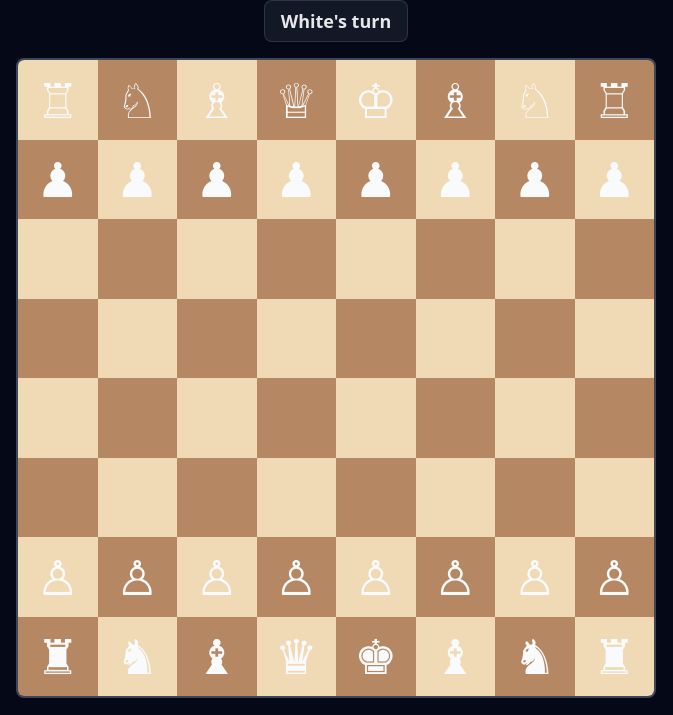
Test: ChessBoard - Responsive Layout and Mobile Gestures › Mobile capture tap handling › should execute capture move when tapping opponent piece after selecting own piece
The width and height of the screenshot is (673, 715).
Click the cell named "square e2". click: coordinates (376, 577)
box: [336,537,416,616]
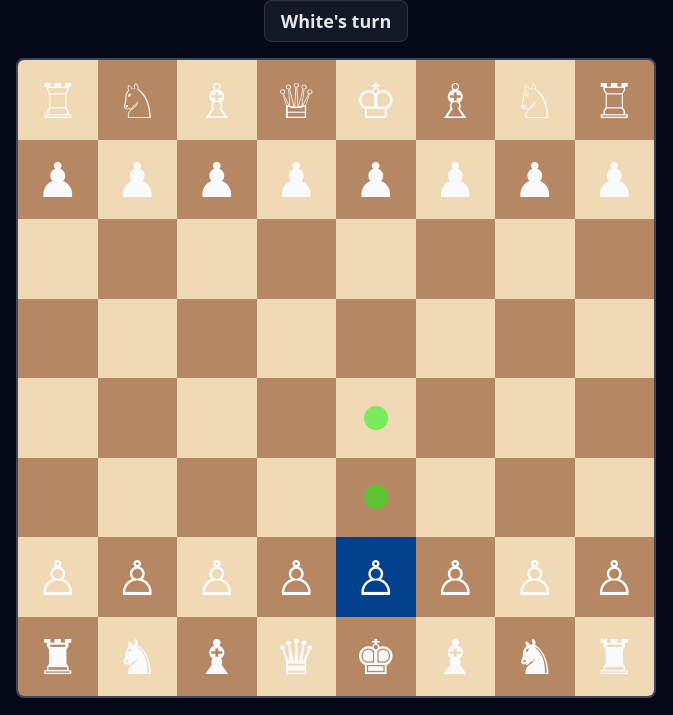
Click the cell named "square e4". click: coordinates (376, 418)
box: [336,378,416,458]
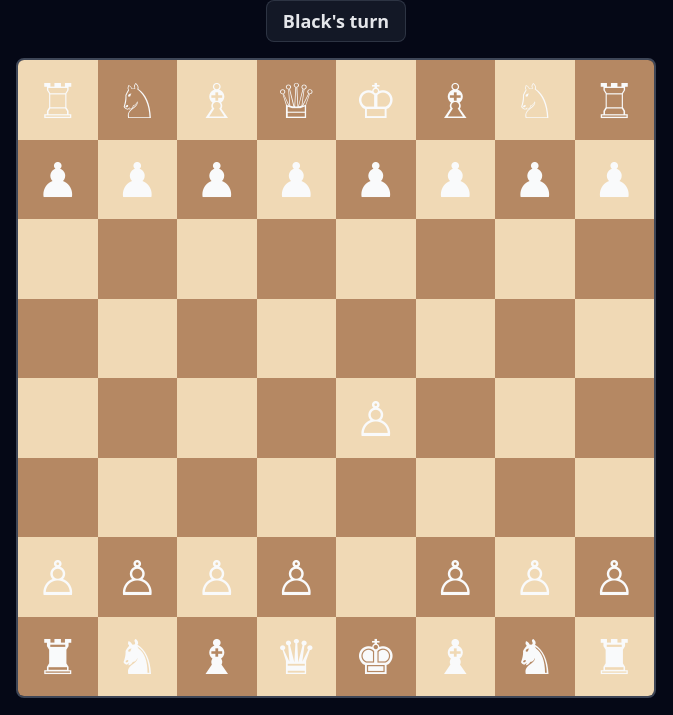
Result: the cell named "square e4" reads "♙" at [354,385,397,450]
Click the cell named "square d7". click: coordinates (296, 179)
box: [256,140,336,219]
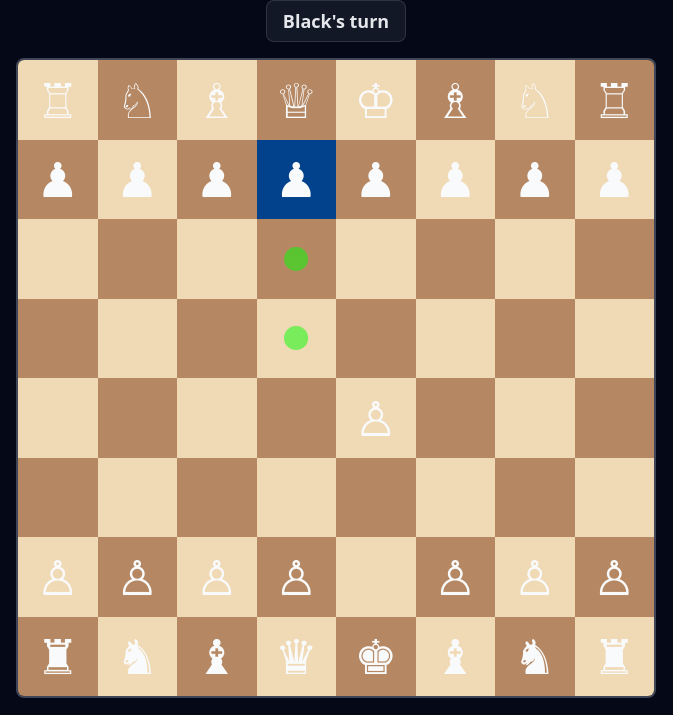
Click the cell named "square d5". click: coordinates (296, 338)
box: [256,298,336,378]
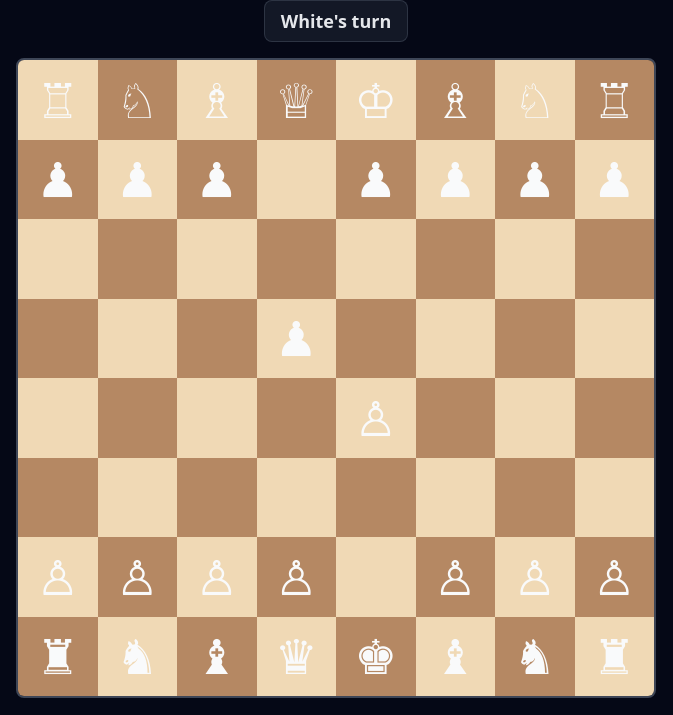
Result: the cell named "square d5" reads "♟" at [275,305,318,370]
Press the mouse on the cell named "square e4" at coordinates (376, 418), box [336,378,416,458]
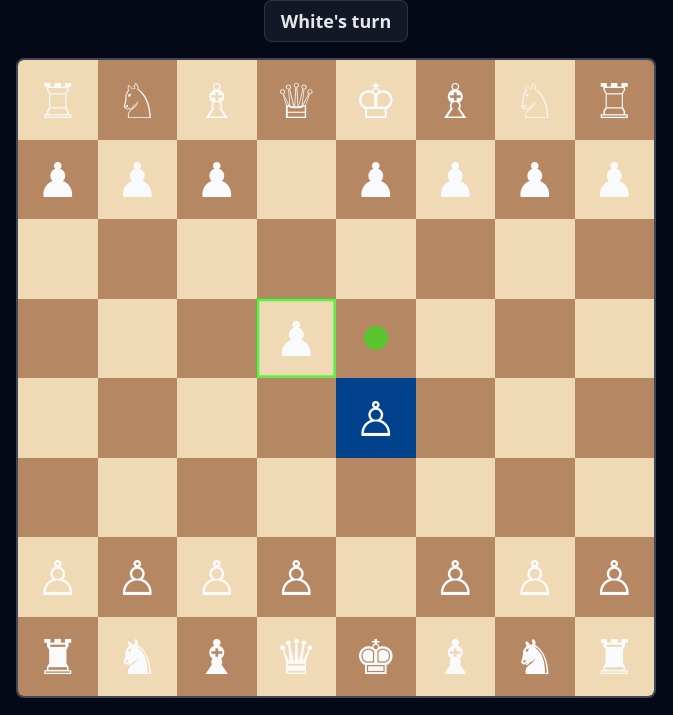
Result: the cell named "square e4" has class "selected" at [336,378,416,458]
Press the mouse on the cell named "square d5" at coordinates (296, 338), box [256,298,336,378]
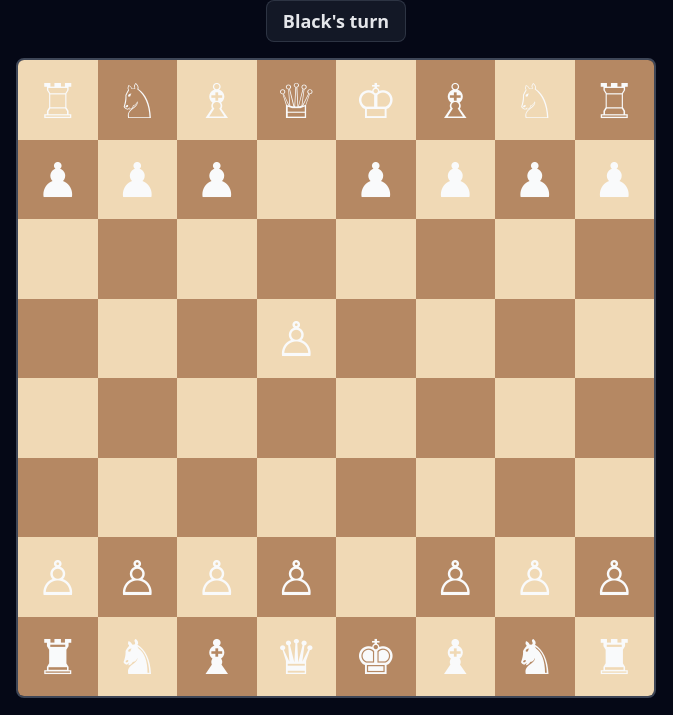
Expected: the cell named "square e4" does not show "♙", [336,378,416,458]
Result: the cell named "square d5" reads "♙" at [275,305,318,370]
